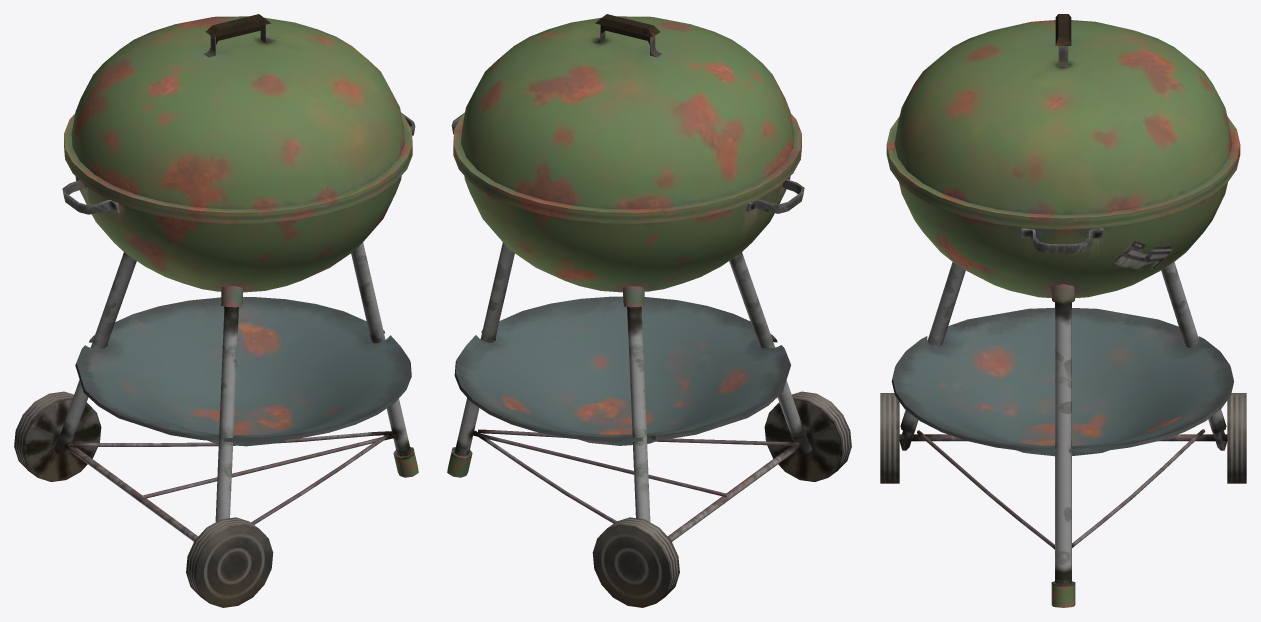
File: p_charcoal_grill.glb
3 views of the same model, side by side, from view 1: azimuth 30°, elevation 25°; view 2: azimuth 150°, elevation 25°; view 3: azimuth 270°, elevation 25° (orthographic).
Visible parts, largest first — view 1: MainPart_LP, Cup_LP, Wheels_LP, ConnectLarge_LP, ConnectLeft_LP, ConnectMiddle_LP, HandleFrontMain_LP, HandleSide_LP, ConnectRight_LP; view 2: MainPart_LP, Cup_LP, Wheels_LP, ConnectLarge_LP, ConnectMiddle_LP, HandleFrontMain_LP, ConnectRight_LP, HandleSide_LP, ConnectLeft_LP; view 3: MainPart_LP, Cup_LP, Wheels_LP, HandleSide_LP, ConnectRight_LP, ConnectLarge_LP, ConnectLeft_LP, HandleFrontMain_LP.
Boxes of the visible parts, x1,y1,x2,y2 form: MainPart_LP: (54, 16, 418, 521); Cup_LP: (75, 297, 411, 446); Wheels_LP: (14, 391, 273, 607); ConnectLarge_LP: (64, 442, 197, 541); ConnectLeft_LP: (69, 431, 392, 447); ConnectMiddle_LP: (140, 434, 396, 499); HandleFrontMain_LP: (205, 14, 270, 44); HandleSide_LP: (62, 112, 415, 214); ConnectRight_LP: (251, 432, 392, 524); MainPart_LP: (447, 16, 811, 521); Cup_LP: (454, 296, 790, 445); Wheels_LP: (592, 391, 851, 607); ConnectLarge_LP: (668, 443, 801, 541); ConnectMiddle_LP: (472, 433, 728, 497); HandleFrontMain_LP: (595, 14, 660, 44); ConnectRight_LP: (478, 429, 798, 446); HandleSide_LP: (451, 112, 804, 213); ConnectLeft_LP: (473, 430, 616, 523); MainPart_LP: (886, 20, 1240, 607); Cup_LP: (891, 307, 1233, 456); Wheels_LP: (880, 393, 1246, 483); HandleSide_LP: (1021, 228, 1103, 253); ConnectRight_LP: (917, 430, 1054, 549); ConnectLarge_LP: (899, 434, 1227, 441); ConnectLeft_LP: (1072, 429, 1205, 547); HandleFrontMain_LP: (1055, 14, 1071, 45).
Size of the model in its own units: 1.1 by 1.49 by 0.9919.
1 material, 1 textured.
